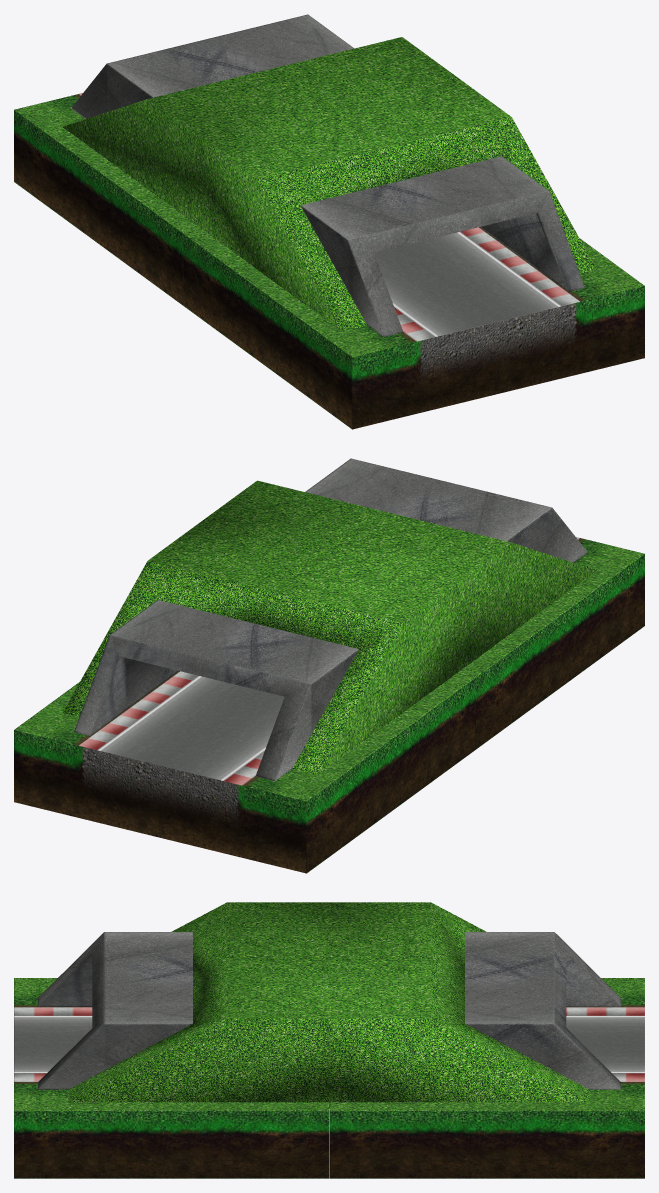
Rendered from long tunnel.fbx.
3 renders of one model, top to bottom at view 1: azimuth 30°, elevation 25°; view 2: azimuth 150°, elevation 25°; view 3: azimuth 270°, elevation 25°, orthographic. The views are drawn at different scales.
Parts seen in each view (by area): view 1: long tunnel; view 2: long tunnel; view 3: long tunnel.
Part boxes in pixels (left/top/right/bottom): long tunnel: left=14, top=14, right=644, bottom=429; long tunnel: left=14, top=458, right=644, bottom=873; long tunnel: left=14, top=902, right=644, bottom=1178.
Size of the model in its own units: 390 by 206 by 780.
